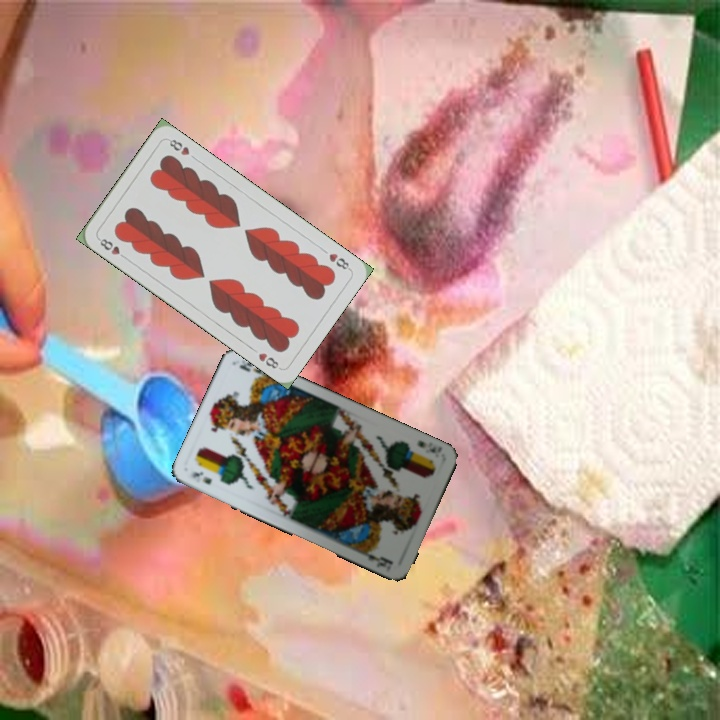EK: (413, 436, 439, 456), (187, 468, 214, 487)
H8: (94, 234, 130, 262), (325, 249, 353, 273)
